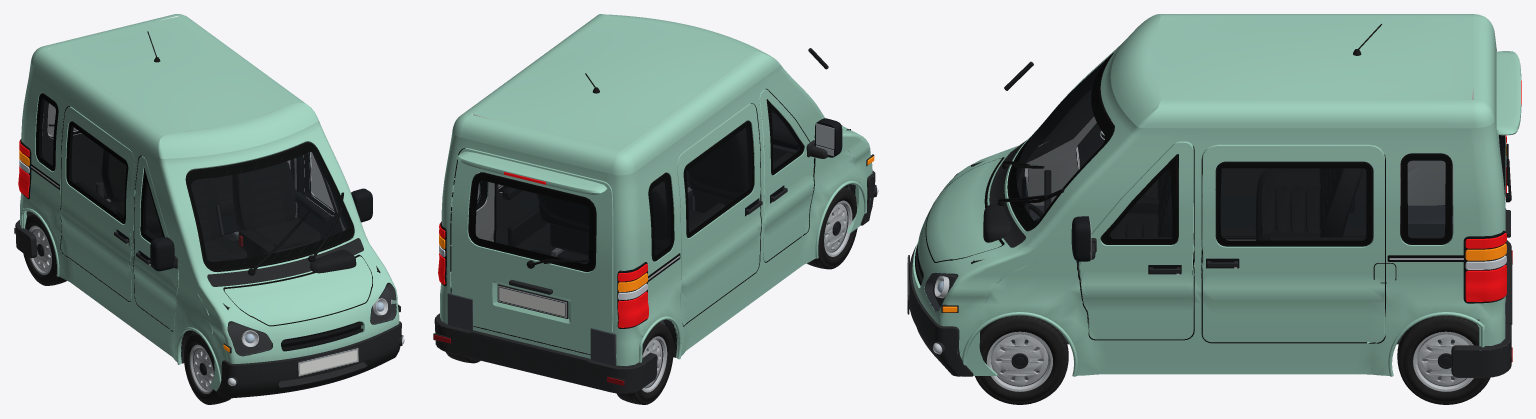
The model's file is kei-tall-wagon.glb.
The picture shows the model from 3 angles, left to right: view 1: azimuth 30°, elevation 25°; view 2: azimuth 150°, elevation 25°; view 3: azimuth 270°, elevation 25°; orthographic projection. The views are drawn at different scales.
Parts seen in each view (by area): view 1: Kei_Tall_Wagon, Sliding_Door_R, Door_R, Door_L, Tailgate, Wheel_Front_R, Wheel_Rear_R; view 2: Kei_Tall_Wagon, Tailgate, Sliding_Door_R, Door_R, Sliding_Door_L, Wheel_Front_R, Wheel_Rear_R; view 3: Kei_Tall_Wagon, Sliding_Door_L, Door_L, Wheel_Front_L, Wheel_Rear_L, Sliding_Door_R, Tailgate, Door_R.
Part boxes in pixels (x1,y1,x2,y2): Kei_Tall_Wagon: [14, 14, 404, 398]; Sliding_Door_R: [60, 106, 134, 301]; Door_R: [133, 156, 178, 331]; Door_L: [295, 152, 372, 250]; Tailgate: [42, 100, 107, 198]; Wheel_Front_R: [184, 332, 230, 404]; Wheel_Rear_R: [23, 213, 66, 285]; Kei_Tall_Wagon: [433, 14, 878, 393]; Tailgate: [451, 148, 613, 354]; Sliding_Door_R: [677, 103, 762, 325]; Door_R: [745, 89, 842, 261]; Sliding_Door_L: [487, 182, 550, 250]; Wheel_Front_R: [807, 187, 857, 269]; Wheel_Rear_R: [616, 322, 673, 404]; Kei_Tall_Wagon: [907, 14, 1512, 377]; Sliding_Door_L: [1202, 144, 1385, 342]; Door_L: [1071, 141, 1202, 339]; Wheel_Front_L: [975, 315, 1068, 404]; Wheel_Rear_L: [1397, 315, 1490, 404]; Sliding_Door_R: [1215, 161, 1373, 237]; Tailgate: [1496, 49, 1521, 237]; Door_R: [1078, 113, 1113, 168].
Bounding box in the file's own units: 1.89 × 2.08 × 3.52.
54 materials, 9 textured.
